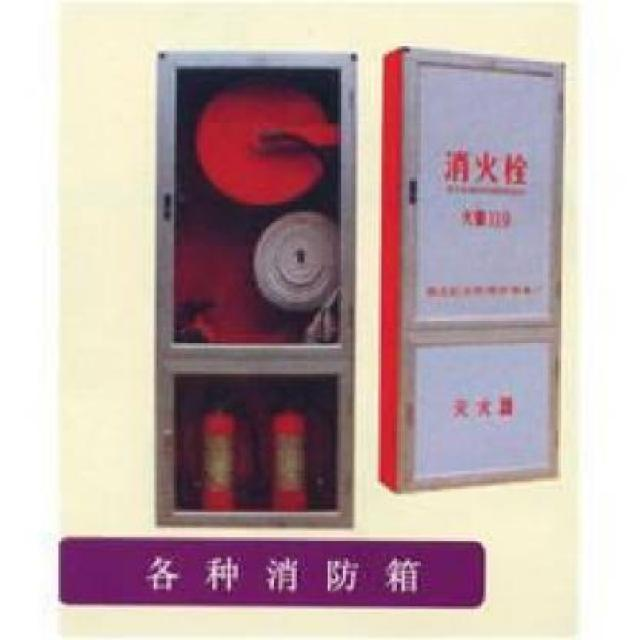firehydrant: (150, 44, 362, 534), (374, 40, 570, 501)
